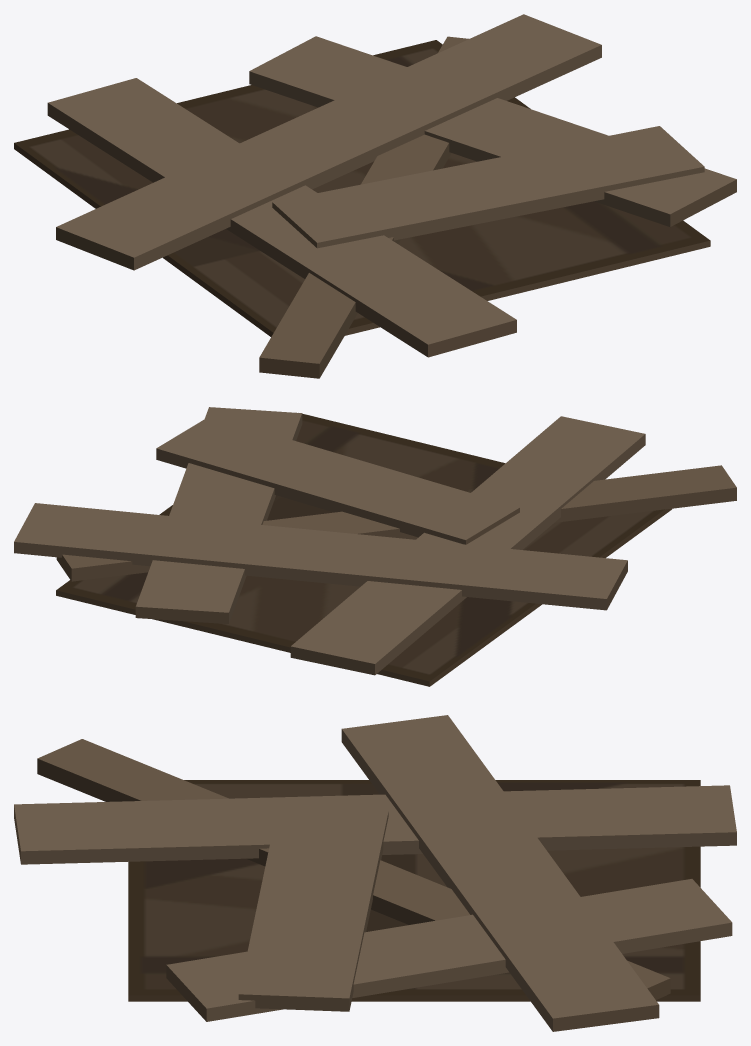
The model's file is SD_Env_Goblin_Platform_Small_04.fbx.
3 views of the same model, one above another, from view 1: azimuth 30°, elevation 25°; view 2: azimuth 150°, elevation 25°; view 3: azimuth 270°, elevation 25° (orthographic). The views are drawn at different scales.
Visible parts, largest first — view 1: SD_Env_Goblin_Platform_Small_04; view 2: SD_Env_Goblin_Platform_Small_04; view 3: SD_Env_Goblin_Platform_Small_04.
Part boxes in pixels (x1,y1,x2,y2): SD_Env_Goblin_Platform_Small_04: [14, 14, 736, 378]; SD_Env_Goblin_Platform_Small_04: [14, 407, 736, 686]; SD_Env_Goblin_Platform_Small_04: [14, 715, 736, 1031].
Size of the model in its own units: 5.3 by 0.254 by 5.33.
